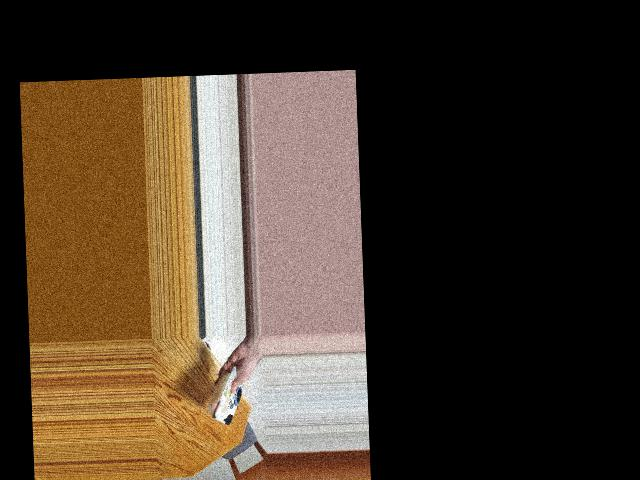cheese: (205, 374, 252, 423)
